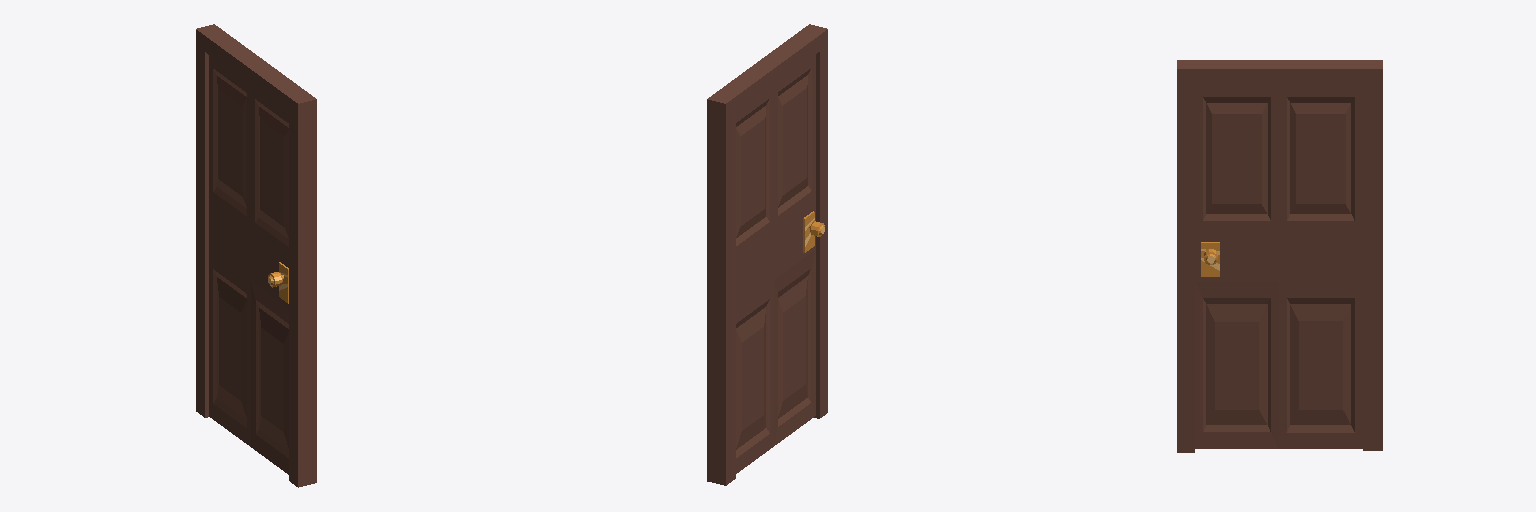
3 renders of one model, left to right at view 1: azimuth 30°, elevation 25°; view 2: azimuth 150°, elevation 25°; view 3: azimuth 270°, elevation 25°, orthographic.
Visible parts, largest first — view 1: group[number redacted], group[number redacted]; view 2: group[number redacted], group[number redacted]; view 3: group[number redacted], group[number redacted].
Boxes of the visible parts, <box> form: group[number redacted]: <box>209,55,288,474</box>; group[number redacted]: <box>196,24,316,487</box>; group[number redacted]: <box>736,55,824,473</box>; group[number redacted]: <box>707,24,827,485</box>; group[number redacted]: <box>1195,85,1362,448</box>; group[number redacted]: <box>1177,60,1382,452</box>.
Size of the model in its own units: 0.2187 by 1.92 by 0.93.